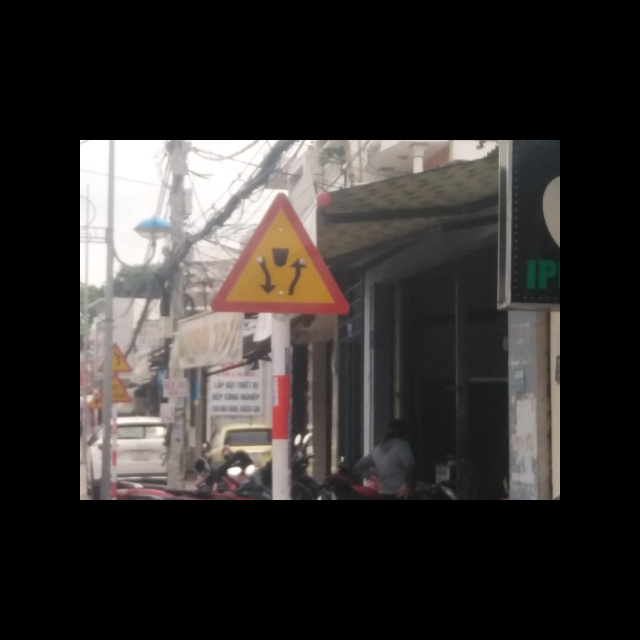Đường đôi: (208, 190, 351, 316)
